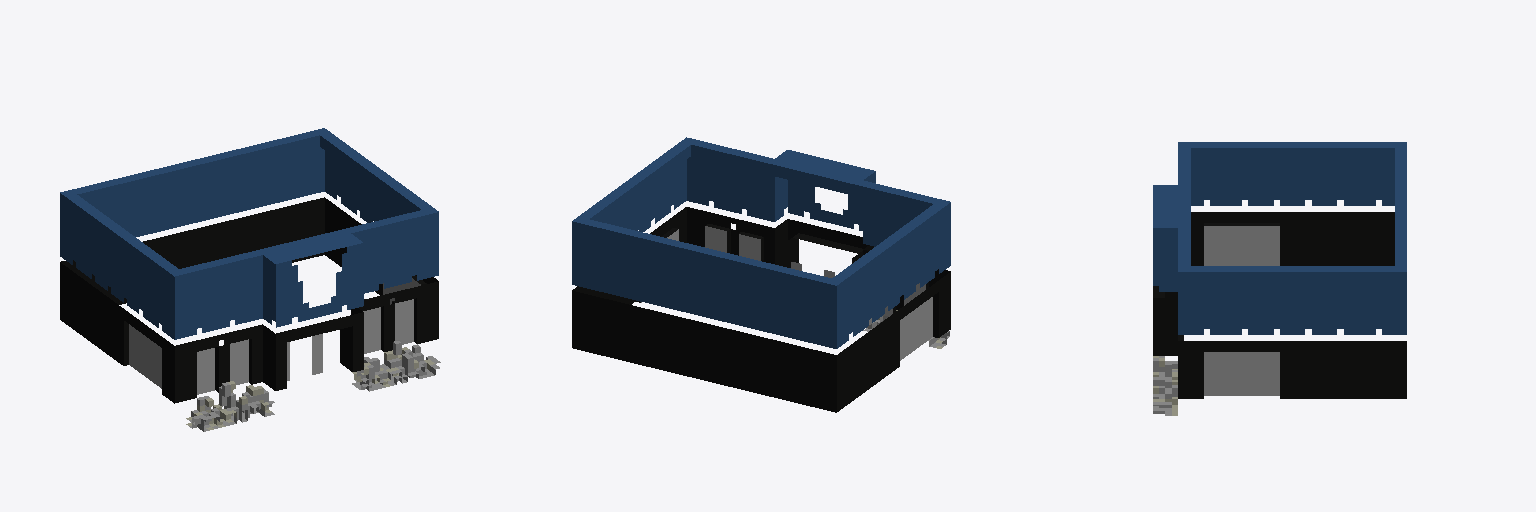
3 views of the same model, side by side, from view 1: azimuth 30°, elevation 25°; view 2: azimuth 150°, elevation 25°; view 3: azimuth 270°, elevation 25° (orthographic).
Parts seen in each view (by area): view 1: ice_cream2; view 2: ice_cream2; view 3: ice_cream2.
Part boxes in pixels (left/top/right/bottom): ice_cream2: left=60, top=128, right=440, bottom=431; ice_cream2: left=572, top=137, right=950, bottom=412; ice_cream2: left=1153, top=142, right=1406, bottom=415.
Size of the model in its own units: 52 by 35 by 44.
1 materials, 1 textured.